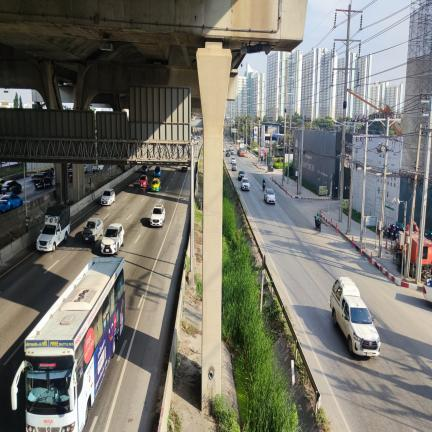bus: (11, 257, 125, 432)
car: (101, 223, 124, 255), (82, 218, 103, 242), (32, 171, 53, 189), (150, 204, 165, 227), (101, 189, 115, 205), (423, 283, 432, 302), (264, 189, 275, 204), (138, 175, 148, 189), (241, 177, 250, 190), (154, 166, 161, 177), (141, 165, 149, 174), (238, 170, 245, 180), (232, 162, 237, 171), (181, 166, 188, 172), (231, 156, 236, 164), (226, 150, 231, 157), (229, 145, 233, 151), (230, 149, 234, 155), (223, 146, 226, 152)
motorbike: (315, 218, 321, 231), (262, 183, 265, 191)
taxi: (151, 178, 161, 192)
truck: (330, 277, 380, 357), (36, 204, 70, 252), (238, 143, 244, 156)
